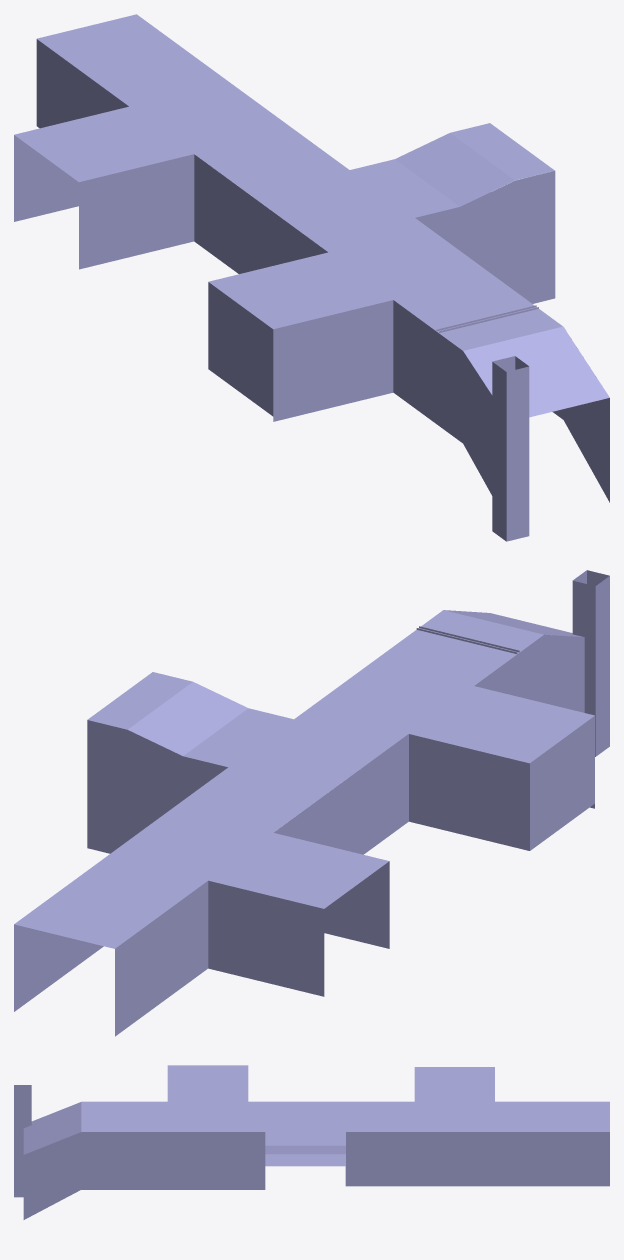
File: Pasillo.fbx
3 views of the same model, one above another, from view 1: azimuth 30°, elevation 25°; view 2: azimuth 150°, elevation 25°; view 3: azimuth 270°, elevation 25° (orthographic). The views are drawn at different scales.
Parts seen in each view (by area): view 1: Techo, Pared_5, Pared_3, Pared_4, Pared_1, Columna, Vacio; view 2: Techo, Pared_3, Pared_1, Pared_2, Vacio, Pared_5, Columna; view 3: Techo, Pared_2, Pared_4, Columna.
Boxes of the visible parts, left/top/right/bottom form: Techo: left=14, top=14, right=609, bottom=417; Pared_5: left=273, top=300, right=492, bottom=495; Pared_3: left=79, top=154, right=327, bottom=273; Pared_4: left=415, top=171, right=609, bottom=502; Pared_1: left=14, top=39, right=128, bottom=221; Columna: left=492, top=356, right=529, bottom=541; Vacio: left=208, top=282, right=273, bottom=416; Techo: left=14, top=610, right=594, bottom=948; Pared_3: left=274, top=734, right=529, bottom=948; Pared_1: left=115, top=880, right=324, bottom=1036; Pared_2: left=14, top=720, right=227, bottom=1011; Vacio: left=530, top=716, right=594, bottom=850; Pared_5: left=474, top=634, right=594, bottom=808; Columna: left=572, top=570, right=609, bottom=756; Techo: left=23, top=1065, right=609, bottom=1166; Pared_2: left=345, top=1132, right=609, bottom=1186; Pared_4: left=23, top=1132, right=265, bottom=1219; Columna: left=14, top=1085, right=31, bottom=1197.
Size of the model in its own units: 24.14 by 10.85 by 55.75.
